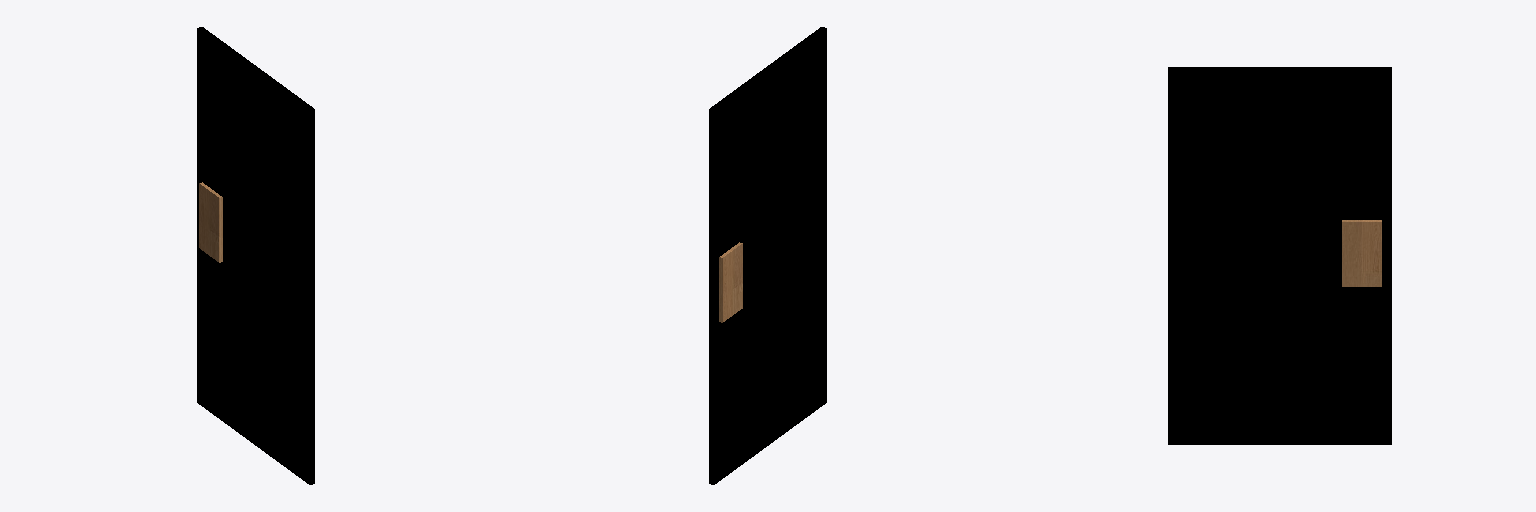
3 views of the same model, side by side, from view 1: azimuth 30°, elevation 25°; view 2: azimuth 150°, elevation 25°; view 3: azimuth 270°, elevation 25° (orthographic).
Visible parts, largest first — view 1: PuertaBano:pasted__pCube2; view 2: PuertaBano:pasted__pCube2; view 3: PuertaBano:pasted__pCube2.
Boxes of the visible parts, box(x1,y1,x2,y2) form: PuertaBano:pasted__pCube2: box(197, 27, 314, 484); PuertaBano:pasted__pCube2: box(709, 27, 826, 484); PuertaBano:pasted__pCube2: box(1168, 67, 1391, 444).
Bounding box in the file's own units: 0.1439 × 4.44 × 2.41.
Materials: 2 (1 with a texture image).